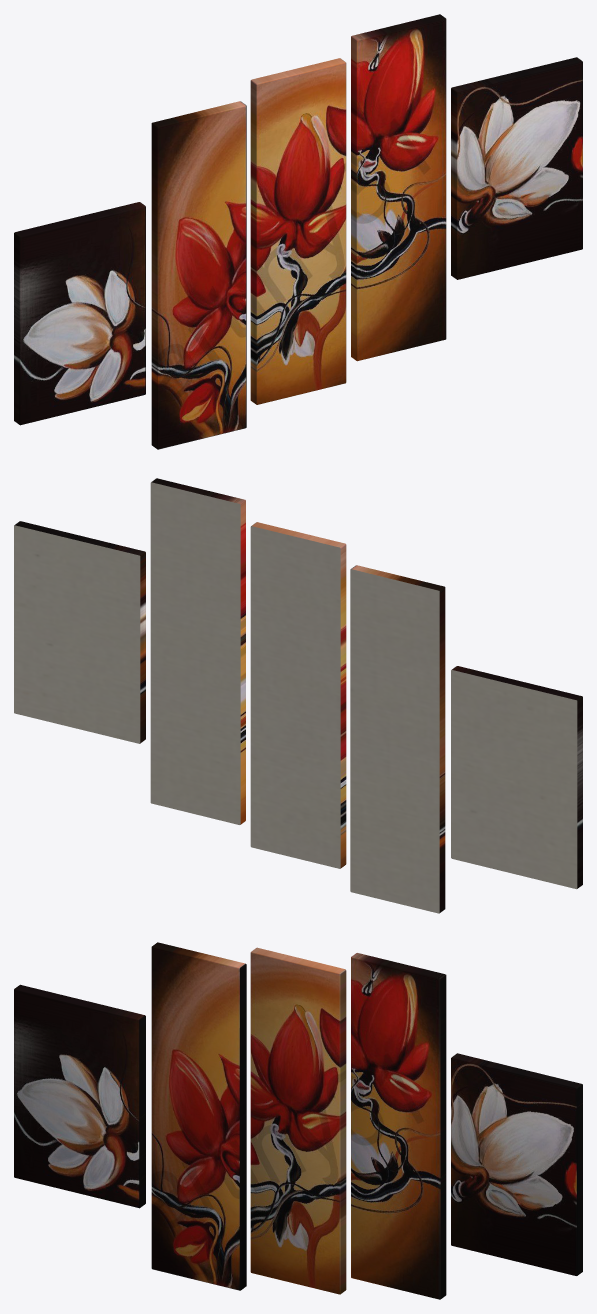
File: Pictures.FBX
The picture shows the model from 3 angles, top to bottom: view 1: azimuth 30°, elevation 25°; view 2: azimuth 150°, elevation 25°; view 3: azimuth 330°, elevation 25°; orthographic projection.
Visible parts, largest first — view 1: Pictures; view 2: Pictures; view 3: Pictures.
Boxes of the visible parts, x1,y1,x2,y2 form: Pictures: (14, 14, 582, 449); Pictures: (14, 478, 582, 913); Pictures: (14, 942, 582, 1299).
Bounding box in the file's own units: 3627 × 66.64 × 2222.
Materials: 1 (1 with a texture image).
